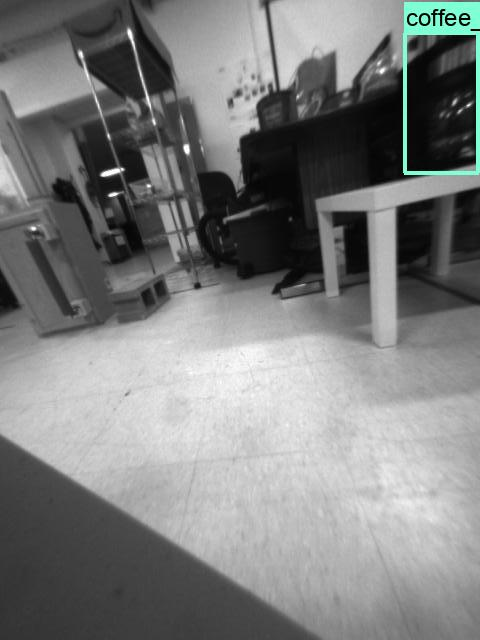coffee_pot: (396, 48, 480, 164)
